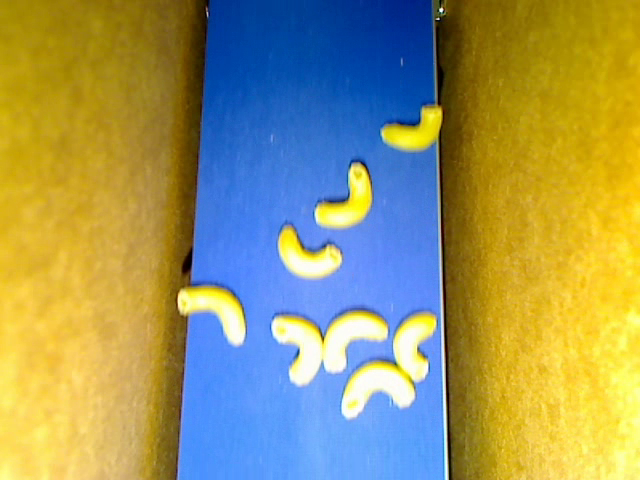elbow: (340, 360, 416, 420), (176, 284, 247, 346), (322, 309, 388, 374), (314, 161, 372, 230), (270, 313, 324, 387), (275, 223, 343, 279), (392, 310, 438, 383), (379, 103, 444, 153)
